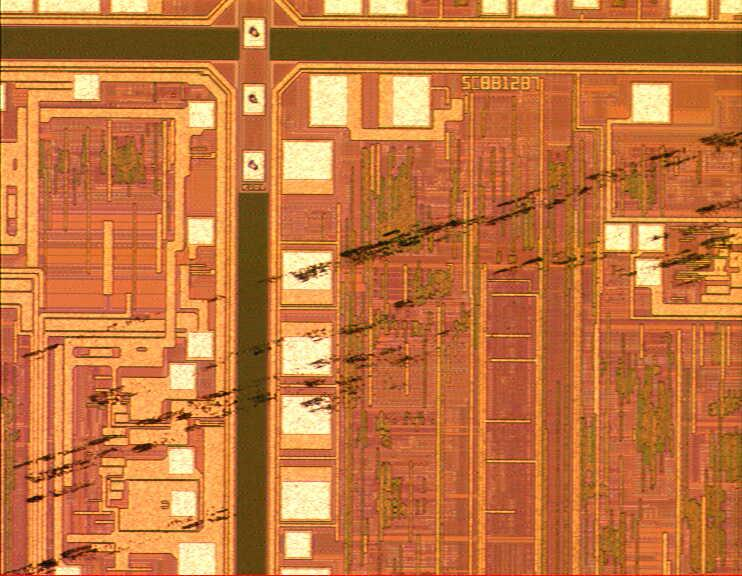SCRATCH: (1, 120, 742, 576)
